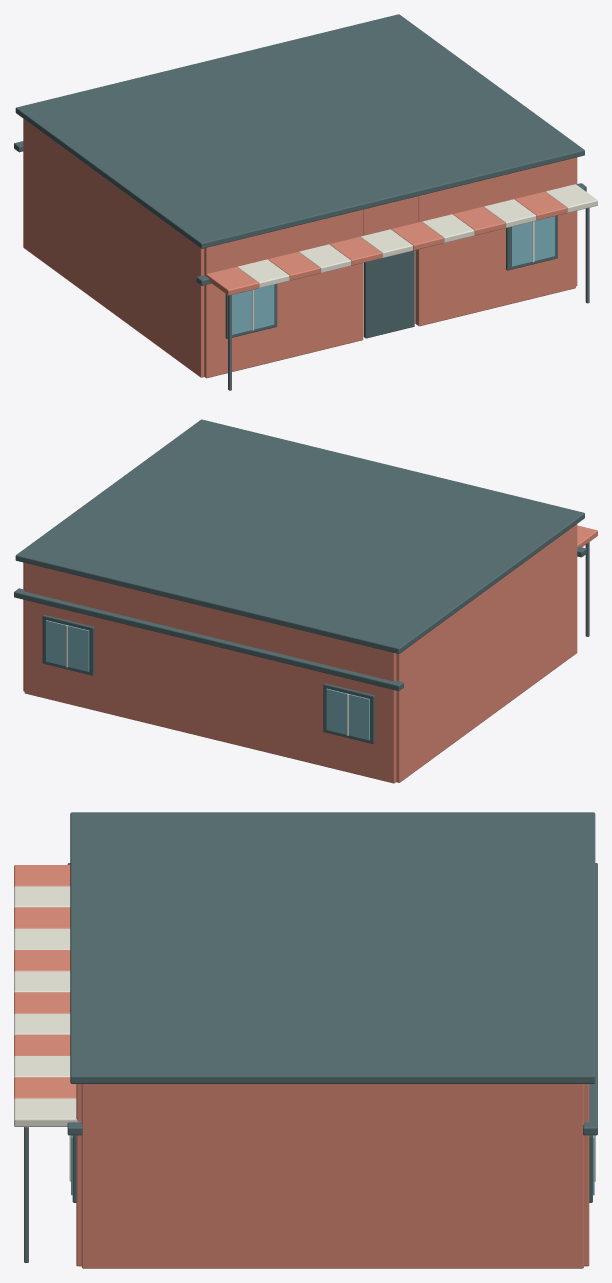
Rendered from district-diner.glb.
The picture shows the model from 3 angles, top to bottom: view 1: azimuth 30°, elevation 25°; view 2: azimuth 150°, elevation 25°; view 3: azimuth 270°, elevation 25°; orthographic projection. The views are drawn at different scales.
Visible parts, largest first — view 1: roof-trim, shell-wall, shell-white, door leaf, shell-glass, shell-trim, shell-steel; view 2: roof-trim, shell-wall, shell-trim, shell-glass; view 3: roof-trim, shell-wall, shell-white, shell-trim, shell-steel.
Boxes of the visible parts, x1=… form: roof-trim: x1=15, y1=14, x2=584, y2=248; shell-wall: x1=23, y1=119, x2=577, y2=378; shell-white: x1=237, y1=184, x2=597, y2=330; door leaf: x1=364, y1=250, x2=414, y2=338; shell-glass: x1=232, y1=216, x2=554, y2=334; shell-trim: x1=14, y1=141, x2=586, y2=338; shell-steel: x1=228, y1=208, x2=589, y2=390; roof-trim: x1=15, y1=419, x2=584, y2=653; shell-wall: x1=23, y1=524, x2=597, y2=783; shell-trim: x1=14, y1=546, x2=586, y2=744; shell-glass: x1=45, y1=620, x2=369, y2=740; roof-trim: x1=70, y1=812, x2=595, y2=1083; shell-wall: x1=14, y1=865, x2=589, y2=1268; shell-white: x1=14, y1=886, x2=595, y2=1181; shell-trim: x1=67, y1=863, x2=597, y2=1202; shell-steel: x1=24, y1=1127, x2=28, y2=1262.
Size of the model in its own units: 12.5 by 4.3 by 11.63.
